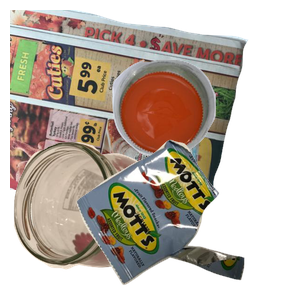glass: (11, 139, 179, 300)
paper: (10, 10, 250, 190)
plastic: (110, 57, 300, 205)
trash: (74, 137, 300, 300)
